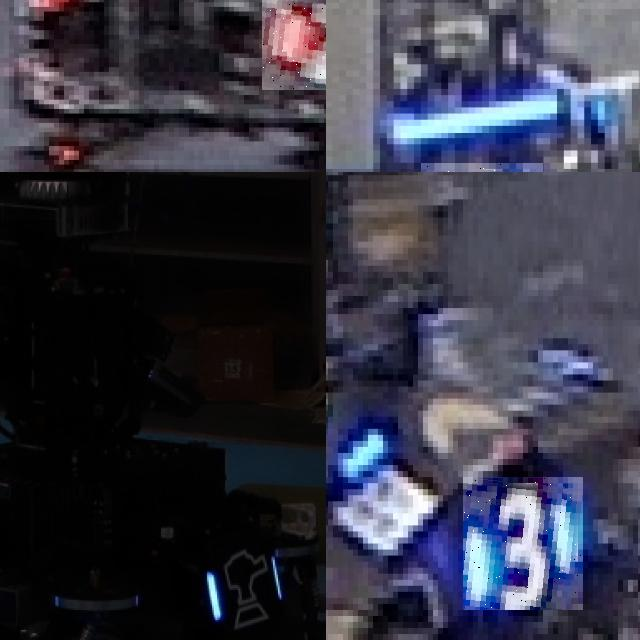B3: (463, 477, 583, 610)
Bs: (200, 538, 286, 635)
R2: (261, 0, 326, 90)
